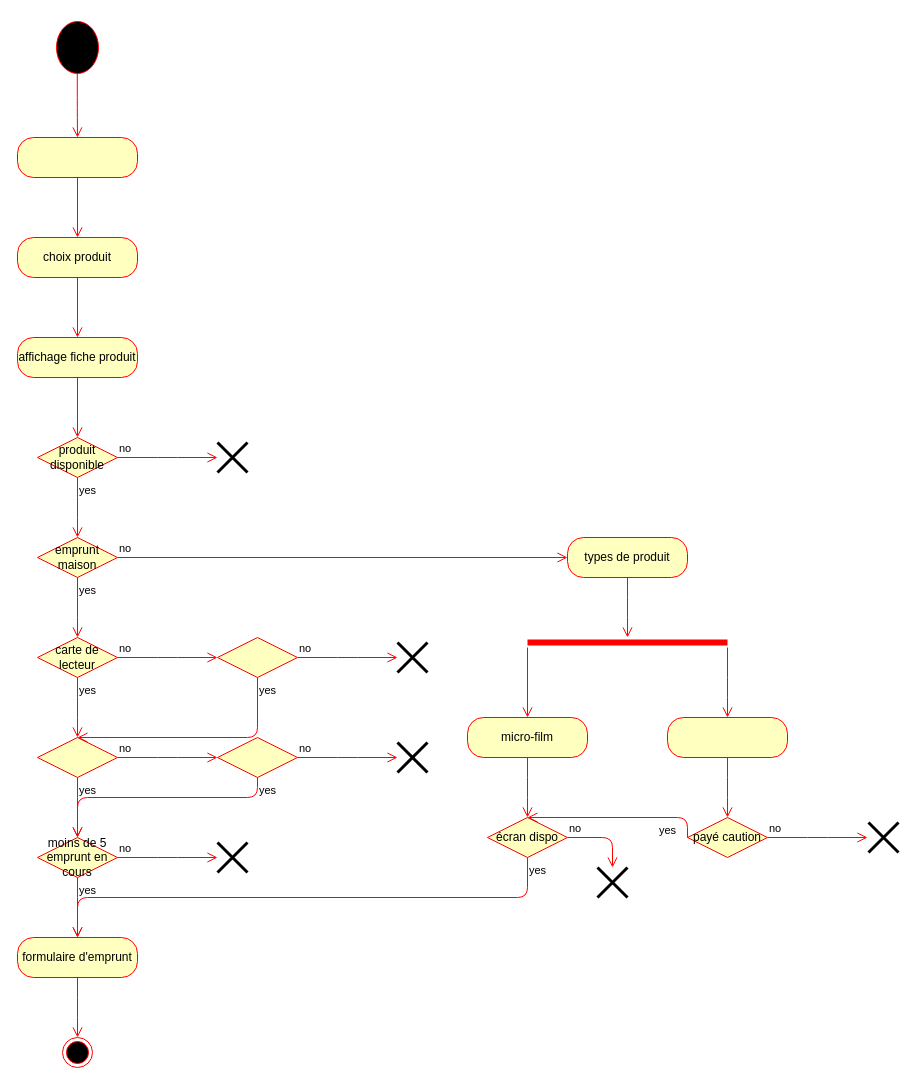
This 917x1085 diagram has some shape labels left out. The centre of each missing label's shape, as x and y in pixels:
"CD-ROM" goes at [727,737].
"consultation catalogue" goes at [77,157].
"cotisation payé" goes at [77,757].
"payer la cotisation" goes at [257,757].
"souscription" goes at [257,657].
